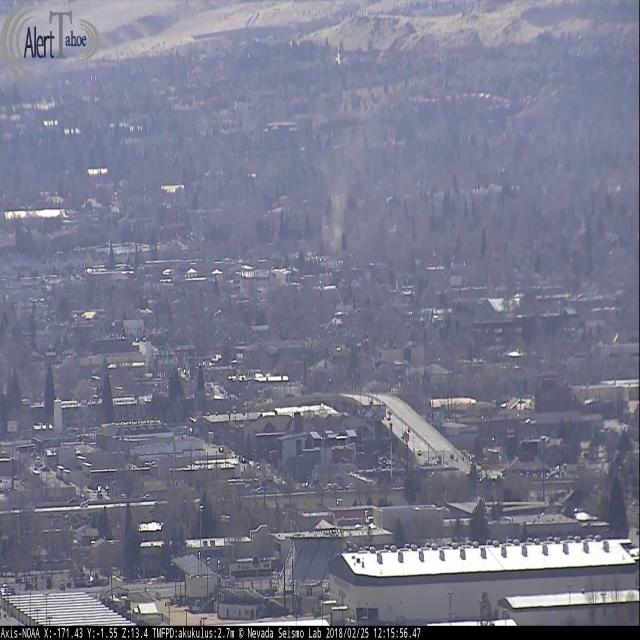smoke: (313, 118, 378, 258)
